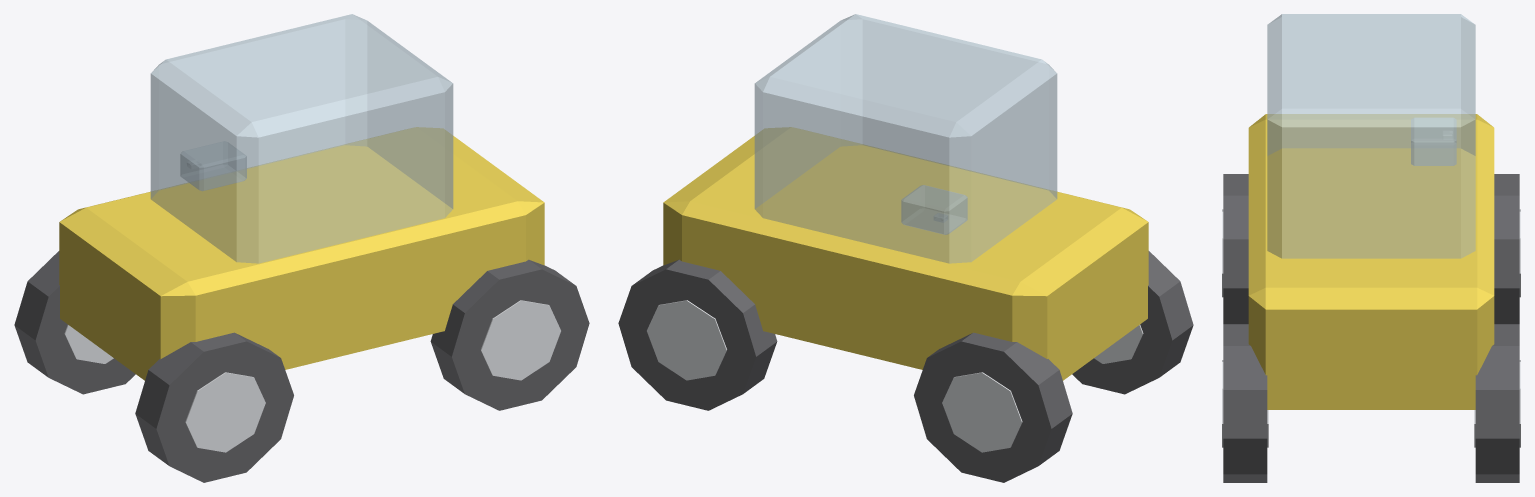
Rendered from b07_remote_trench_padfoot_roller.glb.
3 views of the same model, side by side, from view 1: azimuth 30°, elevation 25°; view 2: azimuth 150°, elevation 25°; view 3: azimuth 270°, elevation 25° (orthographic). The views are drawn at different scales.
Parts seen in each view (by area): view 1: b07_remote_trench_padfoot_roller; view 2: b07_remote_trench_padfoot_roller; view 3: b07_remote_trench_padfoot_roller.
Boxes of the visible parts, left/top/right/bottom form: b07_remote_trench_padfoot_roller: left=14, top=14, right=589, bottom=482; b07_remote_trench_padfoot_roller: left=618, top=14, right=1193, bottom=482; b07_remote_trench_padfoot_roller: left=1222, top=14, right=1520, bottom=482.
Size of the model in its own units: 1.99 by 1.41 by 1.14.
